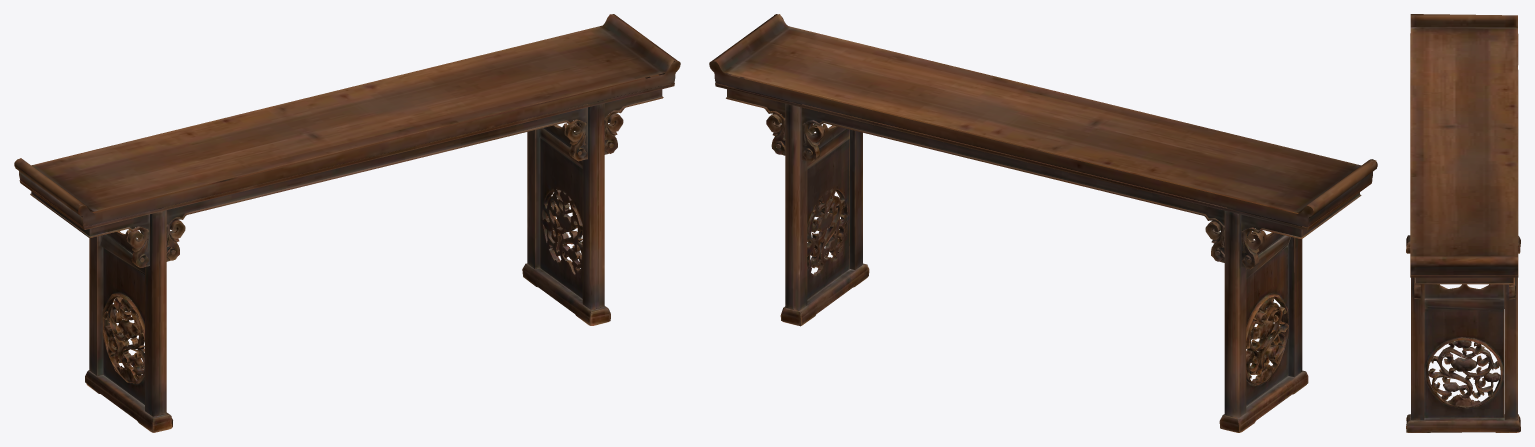
Rendered from tv-unit.glb.
The picture shows the model from 3 angles, left to right: view 1: azimuth 30°, elevation 25°; view 2: azimuth 150°, elevation 25°; view 3: azimuth 270°, elevation 25°; orthographic projection. The views are drawn at different scales.
Parts seen in each view (by area): view 1: chinese_console_table; view 2: chinese_console_table; view 3: chinese_console_table.
Part boxes in pixels (x1,y1,x2,y2): chinese_console_table: (14,14,680,432); chinese_console_table: (709,14,1377,432); chinese_console_table: (1406,14,1520,432).
Bounding box in the file's own units: 1.3 × 0.5014 × 0.2564.
1 material, 1 textured.
